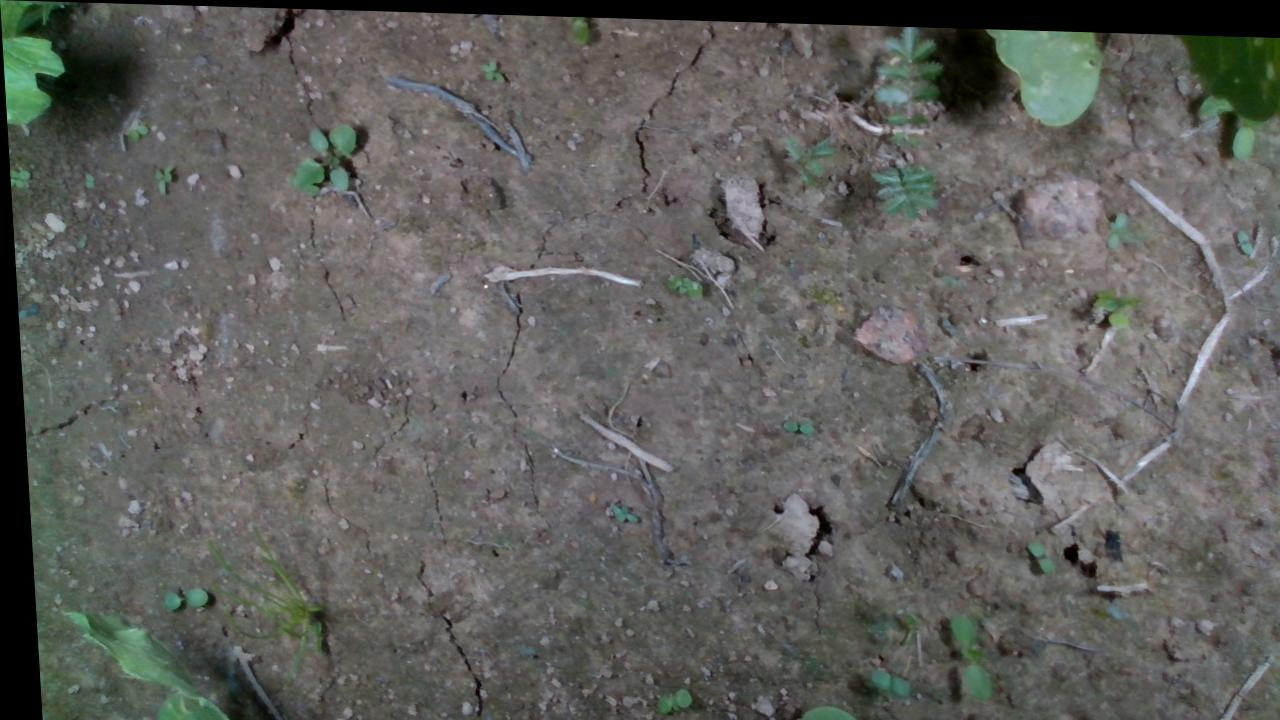weed: (286, 119, 356, 195), (940, 605, 983, 694), (155, 584, 201, 611), (861, 662, 903, 691), (661, 268, 700, 296), (1018, 532, 1049, 567), (646, 682, 683, 709), (1100, 204, 1125, 243), (149, 161, 173, 195), (477, 54, 504, 81), (602, 498, 633, 519), (1232, 219, 1250, 248), (125, 122, 146, 140), (81, 169, 92, 189)
